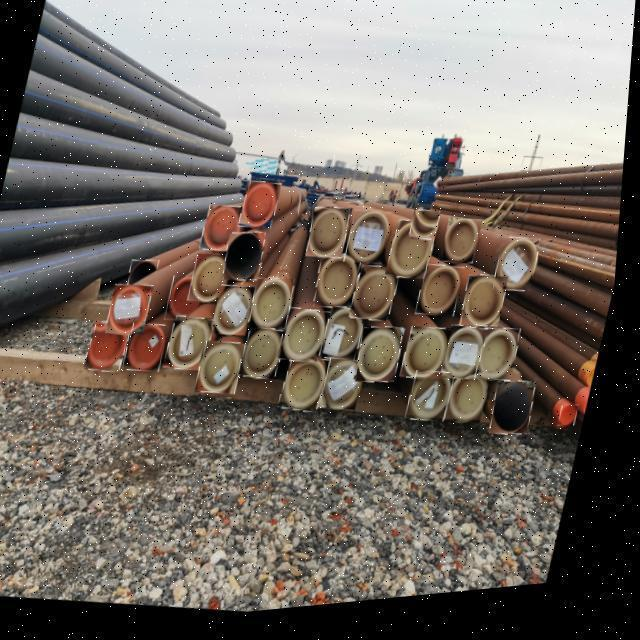pipe: (285, 362, 338, 420), (390, 229, 442, 288), (283, 314, 336, 370), (354, 273, 406, 330), (170, 319, 220, 375), (444, 334, 494, 390), (406, 335, 457, 389), (201, 346, 252, 399), (244, 333, 293, 386), (349, 218, 397, 272), (412, 379, 461, 431), (362, 336, 409, 390), (499, 248, 546, 302), (421, 274, 469, 326), (90, 323, 137, 376), (320, 262, 366, 315), (326, 315, 372, 368), (451, 381, 498, 432), (254, 285, 300, 336), (326, 366, 372, 417), (466, 286, 512, 337), (497, 393, 542, 445), (482, 339, 526, 392), (111, 288, 157, 338), (128, 327, 174, 376), (217, 290, 261, 341), (311, 215, 355, 265), (192, 259, 236, 308), (204, 210, 247, 257), (242, 187, 285, 234), (444, 227, 487, 274), (228, 238, 270, 285), (169, 280, 210, 326), (414, 220, 444, 249), (133, 263, 163, 289), (565, 416, 586, 439)
